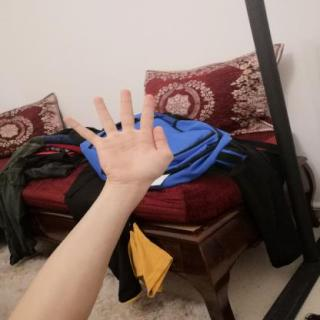SHEEN: (54, 85, 179, 189)
